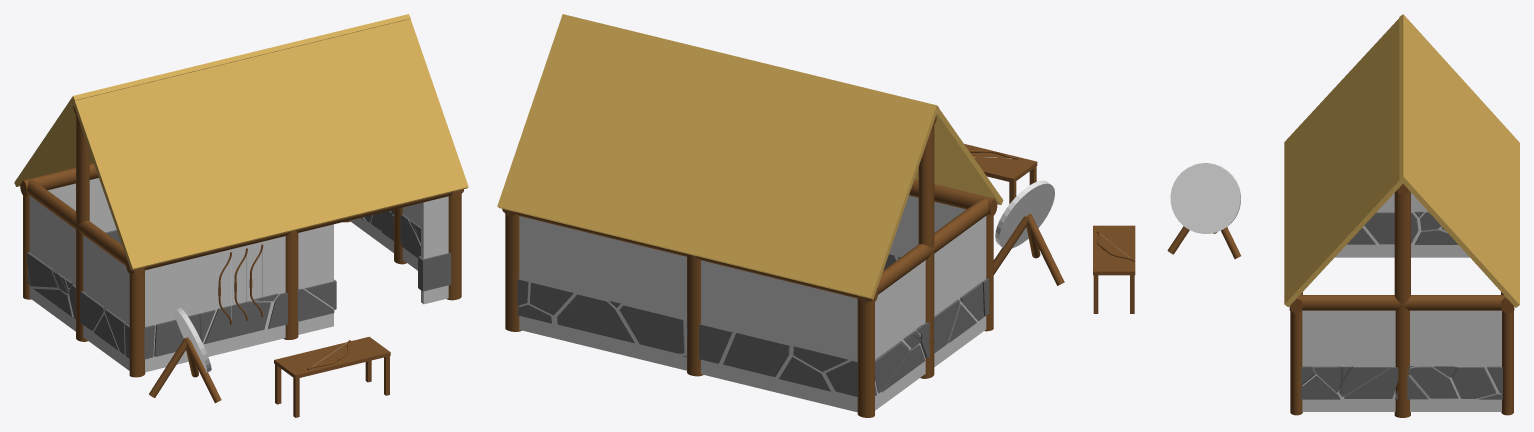
The model's file is Bowyer.fbx.
3 renders of one model, left to right at view 1: azimuth 30°, elevation 25°; view 2: azimuth 150°, elevation 25°; view 3: azimuth 270°, elevation 25°, orthographic. The views are drawn at different scales.
Visible parts, largest first — view 1: Roof, Clay Walls, Struts, Stone Walls, Table, Archery Target, Bows; view 2: Roof, Clay Walls, Stone Walls, Struts, Archery Target, Table; view 3: Roof, Clay Walls, Struts, Stone Walls, Archery Target, Table.
Part boxes in pixels (box(x1,y1,x2,y2)): Roof: box(14, 14, 468, 270); Clay Walls: box(29, 178, 448, 372); Struts: box(20, 106, 463, 377); Stone Walls: box(27, 209, 451, 359); Table: box(274, 336, 390, 417); Archery Target: box(149, 307, 221, 403); Bows: box(218, 244, 350, 370); Roof: box(497, 14, 1003, 299); Clay Walls: box(519, 195, 986, 412); Stone Walls: box(517, 253, 989, 396); Struts: box(502, 116, 997, 417); Archery Target: box(993, 180, 1064, 285); Table: box(964, 144, 1037, 203); Roof: box(1284, 14, 1519, 307); Clay Walls: box(1302, 193, 1501, 411); Struts: box(1289, 184, 1514, 417); Stone Walls: box(1300, 211, 1502, 399); Archery Target: box(1167, 163, 1240, 258); Table: box(1093, 225, 1135, 313).
Size of the model in its own units: 192 by 127 by 202.
